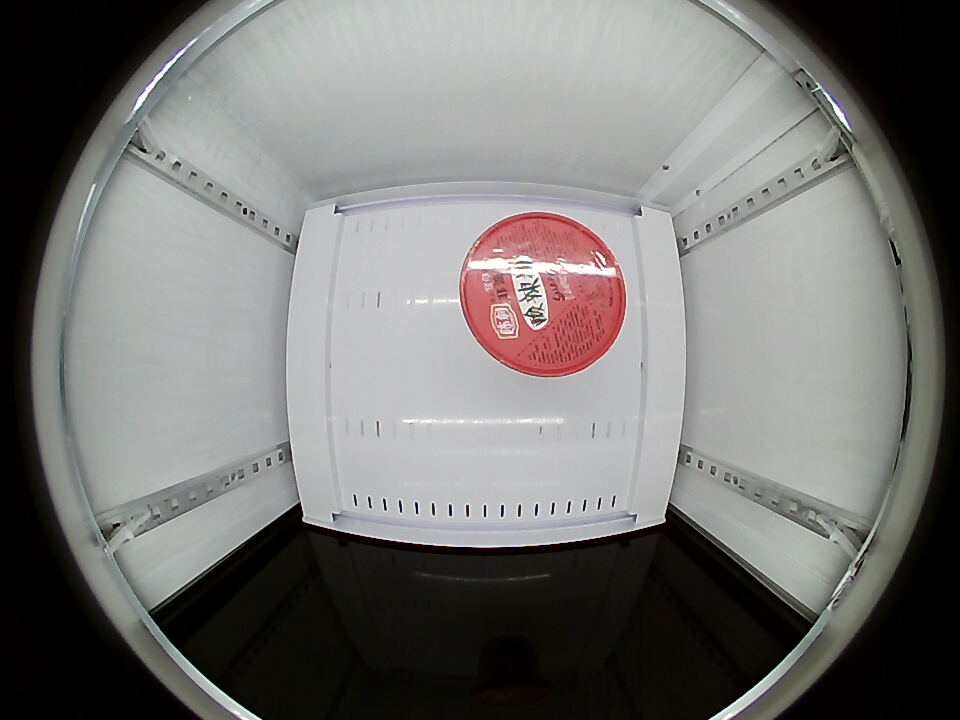suanlafen: (458, 212, 626, 377)
